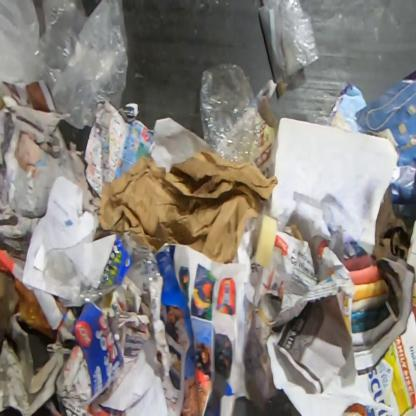cardboard: (100, 150, 278, 264), (357, 308, 415, 415), (373, 184, 414, 263), (364, 405, 389, 416)
soft_plastic: (0, 0, 130, 132), (42, 232, 162, 310), (198, 62, 264, 169), (261, 0, 321, 79)
